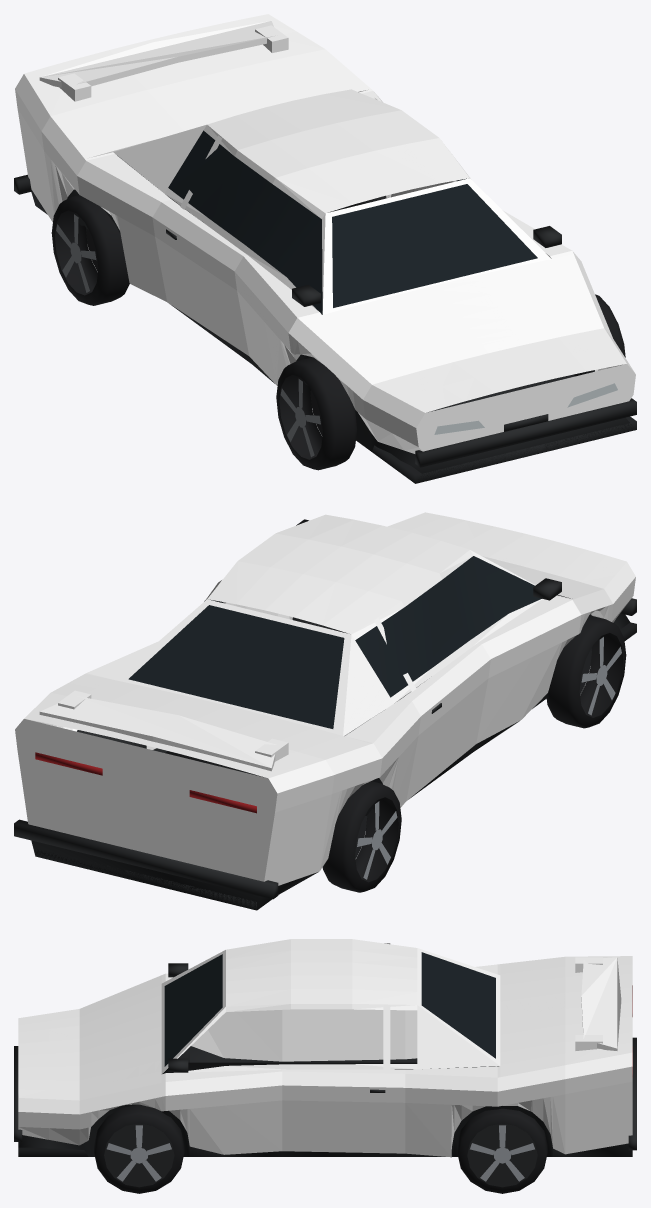
The model's file is castellani_ecoa.glb.
The picture shows the model from 3 angles, top to bottom: view 1: azimuth 30°, elevation 25°; view 2: azimuth 150°, elevation 25°; view 3: azimuth 270°, elevation 25°; orthographic projection. The views are drawn at different scales.
Parts seen in each view (by area): view 1: Body_Paint, Body_Details, Mount_FrontLeft_Wheel_Details, Mount_RearLeft_Wheel_Details; view 2: Body_Paint, Body_Details, Mount_FrontLeft_Wheel_Details, Mount_RearLeft_Wheel_Details; view 3: Body_Paint, Body_Details, Mount_FrontRight_Wheel_Details, Mount_RearRight_Wheel_Details.
Part boxes in pixels (x1,y1,x2,y2): Body_Paint: (15, 14, 635, 453); Body_Details: (14, 130, 636, 483); Mount_FrontLeft_Wheel_Details: (276, 357, 356, 470); Mount_RearLeft_Wheel_Details: (51, 195, 129, 305); Body_Paint: (15, 512, 635, 885); Body_Details: (14, 519, 636, 910); Mount_FrontLeft_Wheel_Details: (546, 615, 626, 728); Mount_RearLeft_Wheel_Details: (322, 781, 401, 892); Body_Paint: (18, 939, 632, 1157); Body_Details: (14, 952, 636, 1157); Mount_FrontRight_Wheel_Details: (94, 1104, 184, 1193); Mount_RearRight_Wheel_Details: (457, 1108, 547, 1193).
Size of the model in its own units: 1.86 by 1.21 by 4.07.
Materials: 2 (1 with a texture image).
